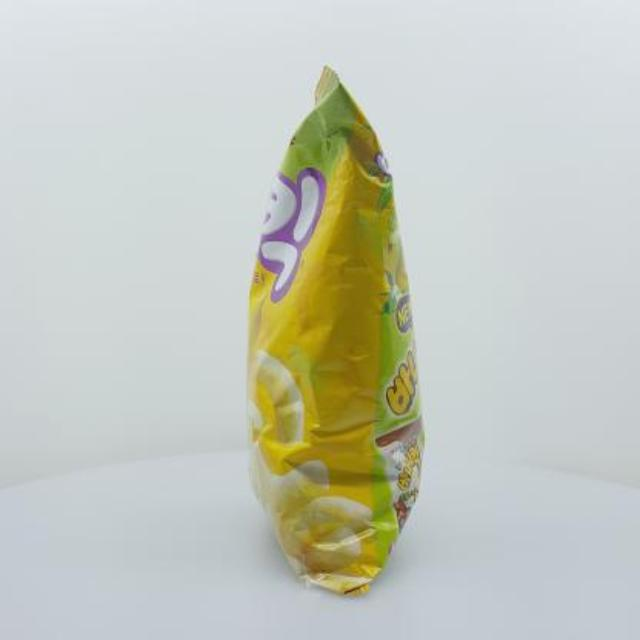snack_bag: (233, 53, 457, 617)
